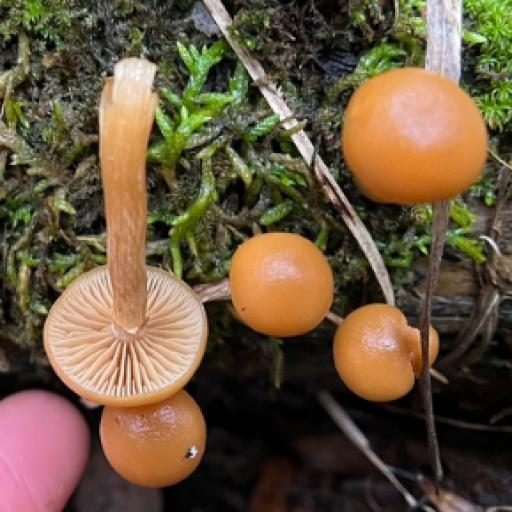mushroom: (35, 45, 222, 494), (225, 223, 442, 418), (323, 18, 503, 209)
